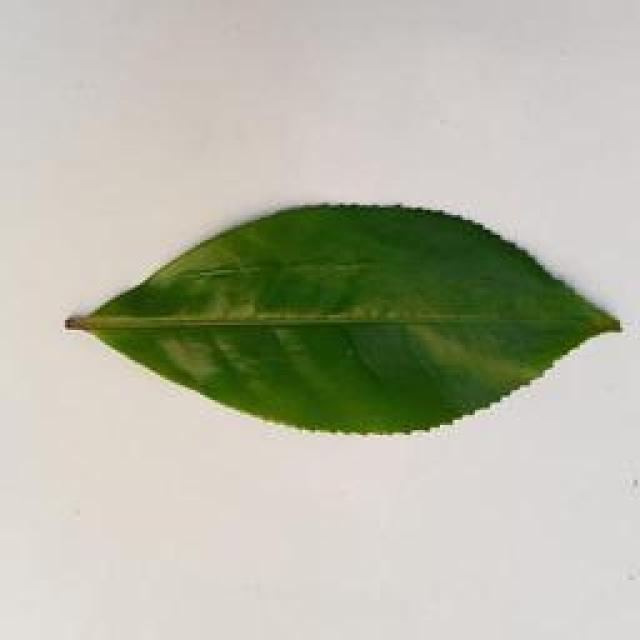Healthy: (64, 204, 620, 449)
